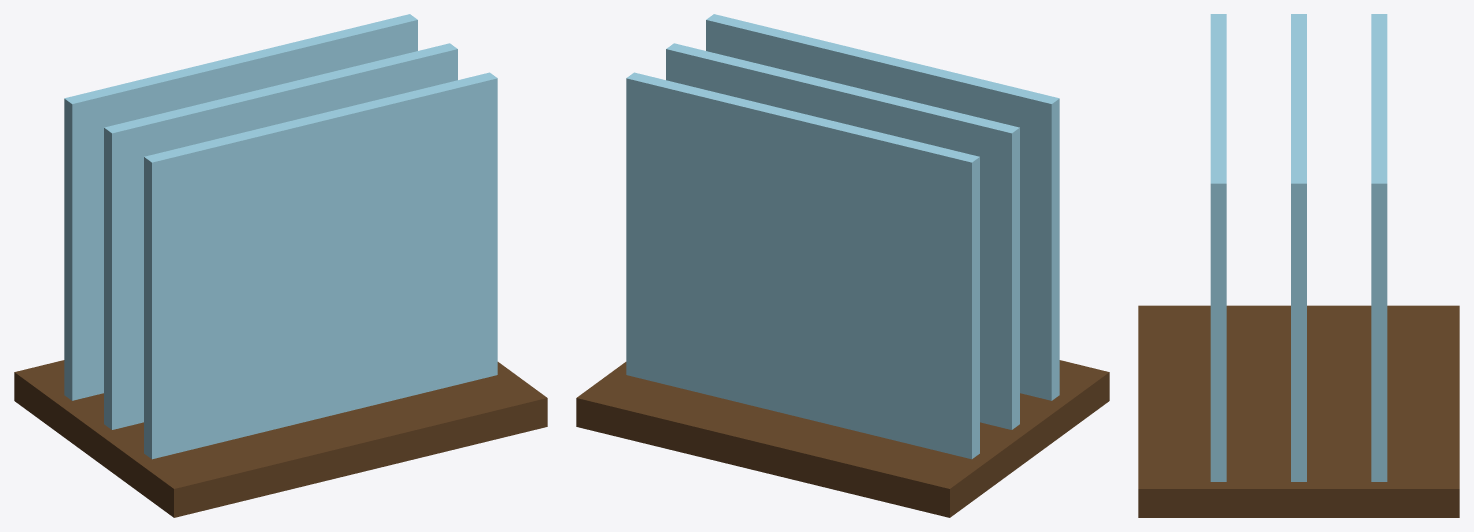
The model's file is material_glass.glb.
3 renders of one model, left to right at view 1: azimuth 30°, elevation 25°; view 2: azimuth 150°, elevation 25°; view 3: azimuth 270°, elevation 25°, orthographic.
Bounding box in the file's own units: 0.54 × 0.45 × 0.4.
